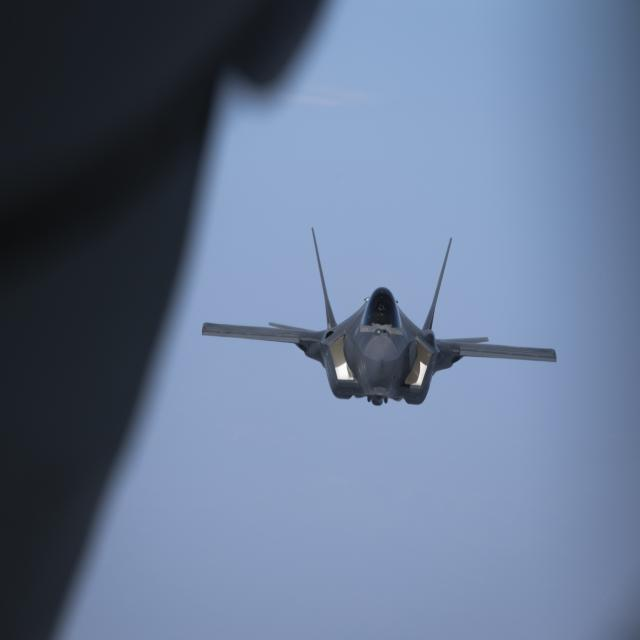MIL_Plane: (202, 227, 556, 406)
